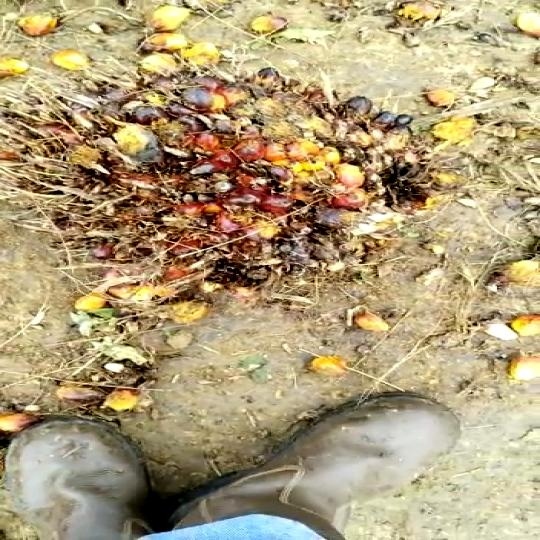terlalu masak: (0, 59, 460, 294)
